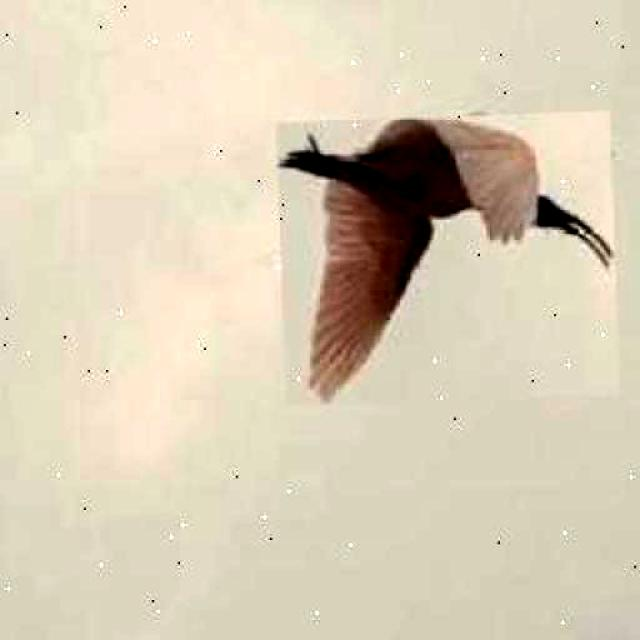airplane: (275, 110, 619, 406)
